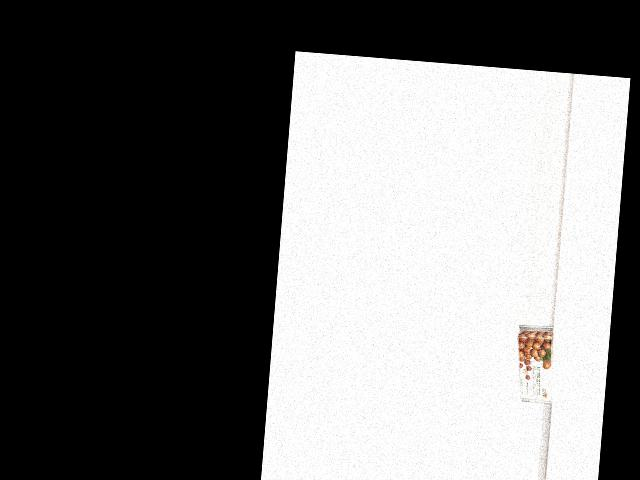chocolate: (512, 324, 555, 404)
